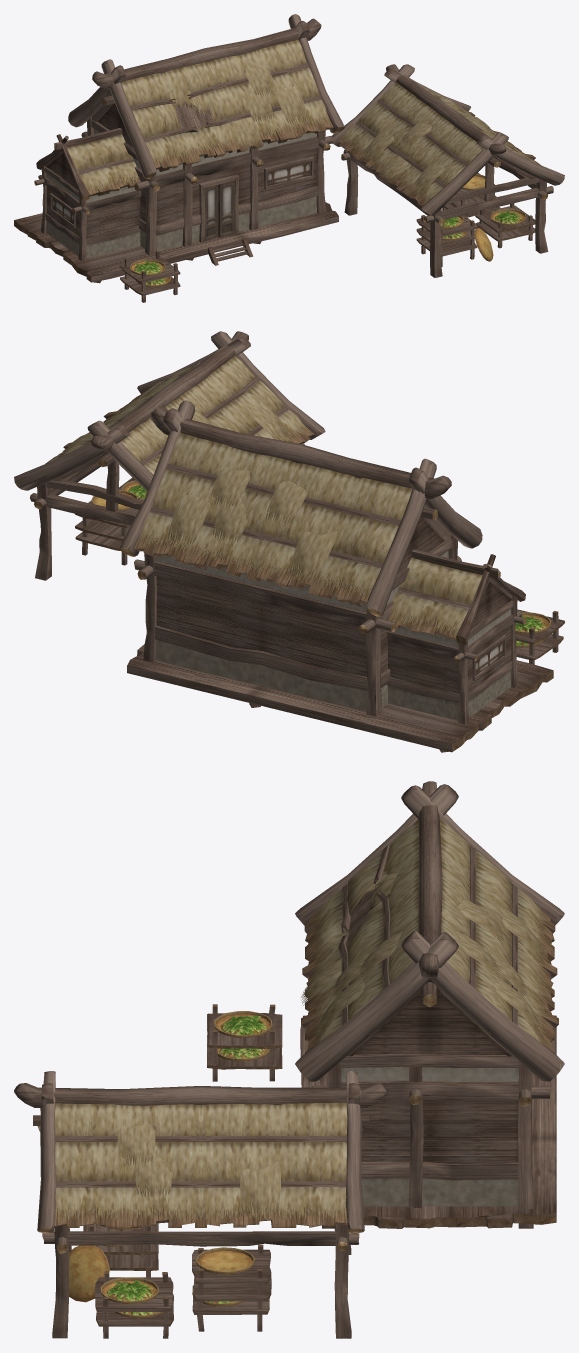
Rendered from handan_field_b_e01.fbx.
3 renders of one model, top to bottom at view 1: azimuth 30°, elevation 25°; view 2: azimuth 150°, elevation 25°; view 3: azimuth 270°, elevation 25°, orthographic. The views are drawn at different scales.
Parts seen in each view (by area): view 1: polymsh; view 2: polymsh; view 3: polymsh.
Boxes of the visible parts, box(x1,y1,x2,y2) form: polymsh: box(14, 14, 564, 302); polymsh: box(14, 331, 564, 752); polymsh: box(14, 781, 564, 1338).
Size of the model in its own units: 1744 by 775 by 1285.
